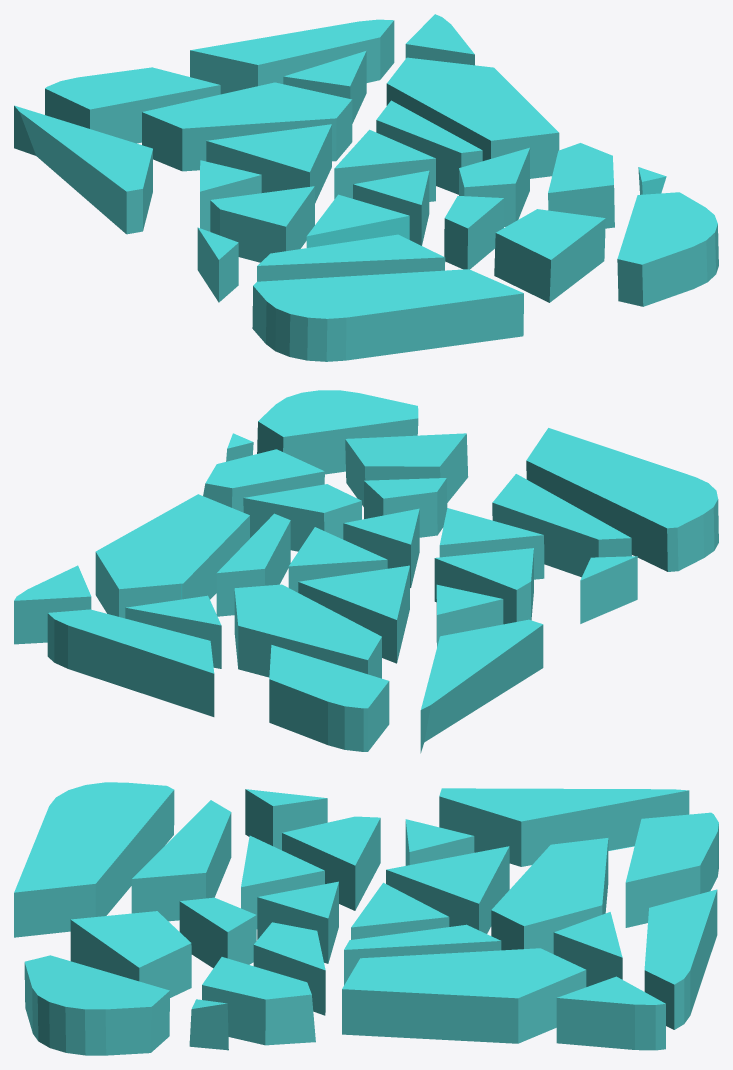
File: screen_broken.glb
3 views of the same model, one above another, from view 1: azimuth 30°, elevation 25°; view 2: azimuth 150°, elevation 25°; view 3: azimuth 270°, elevation 25° (orthographic). The views are drawn at different scales.
Parts seen in each view (by area): view 1: Screen broken; view 2: Screen broken; view 3: Screen broken.
Boxes of the visible parts, x1=… form: Screen broken: x1=14, y1=14, x2=718, y2=361; Screen broken: x1=14, y1=390, x2=718, y2=753; Screen broken: x1=14, y1=782, x2=718, y2=1055.
Size of the model in its own units: 0.7395 by 0.0843 by 0.9838.
Materials: 1 (1 with a texture image).
